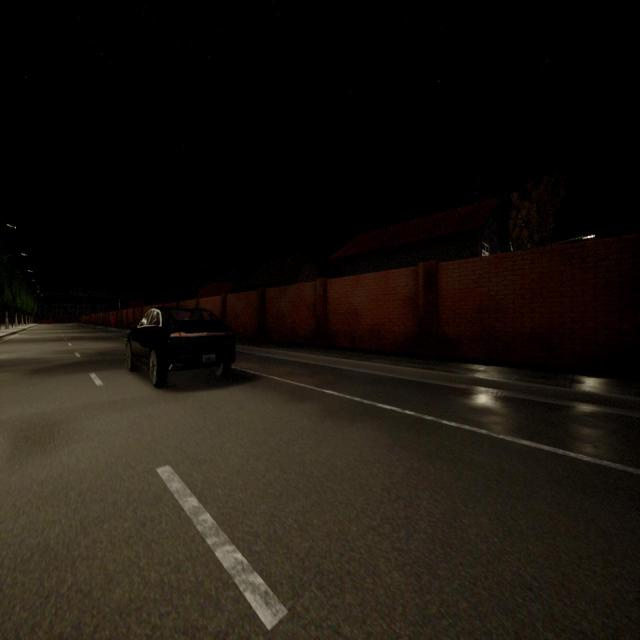Pedestrian: (112, 312, 115, 327)
Vehicle: (126, 307, 234, 388)
